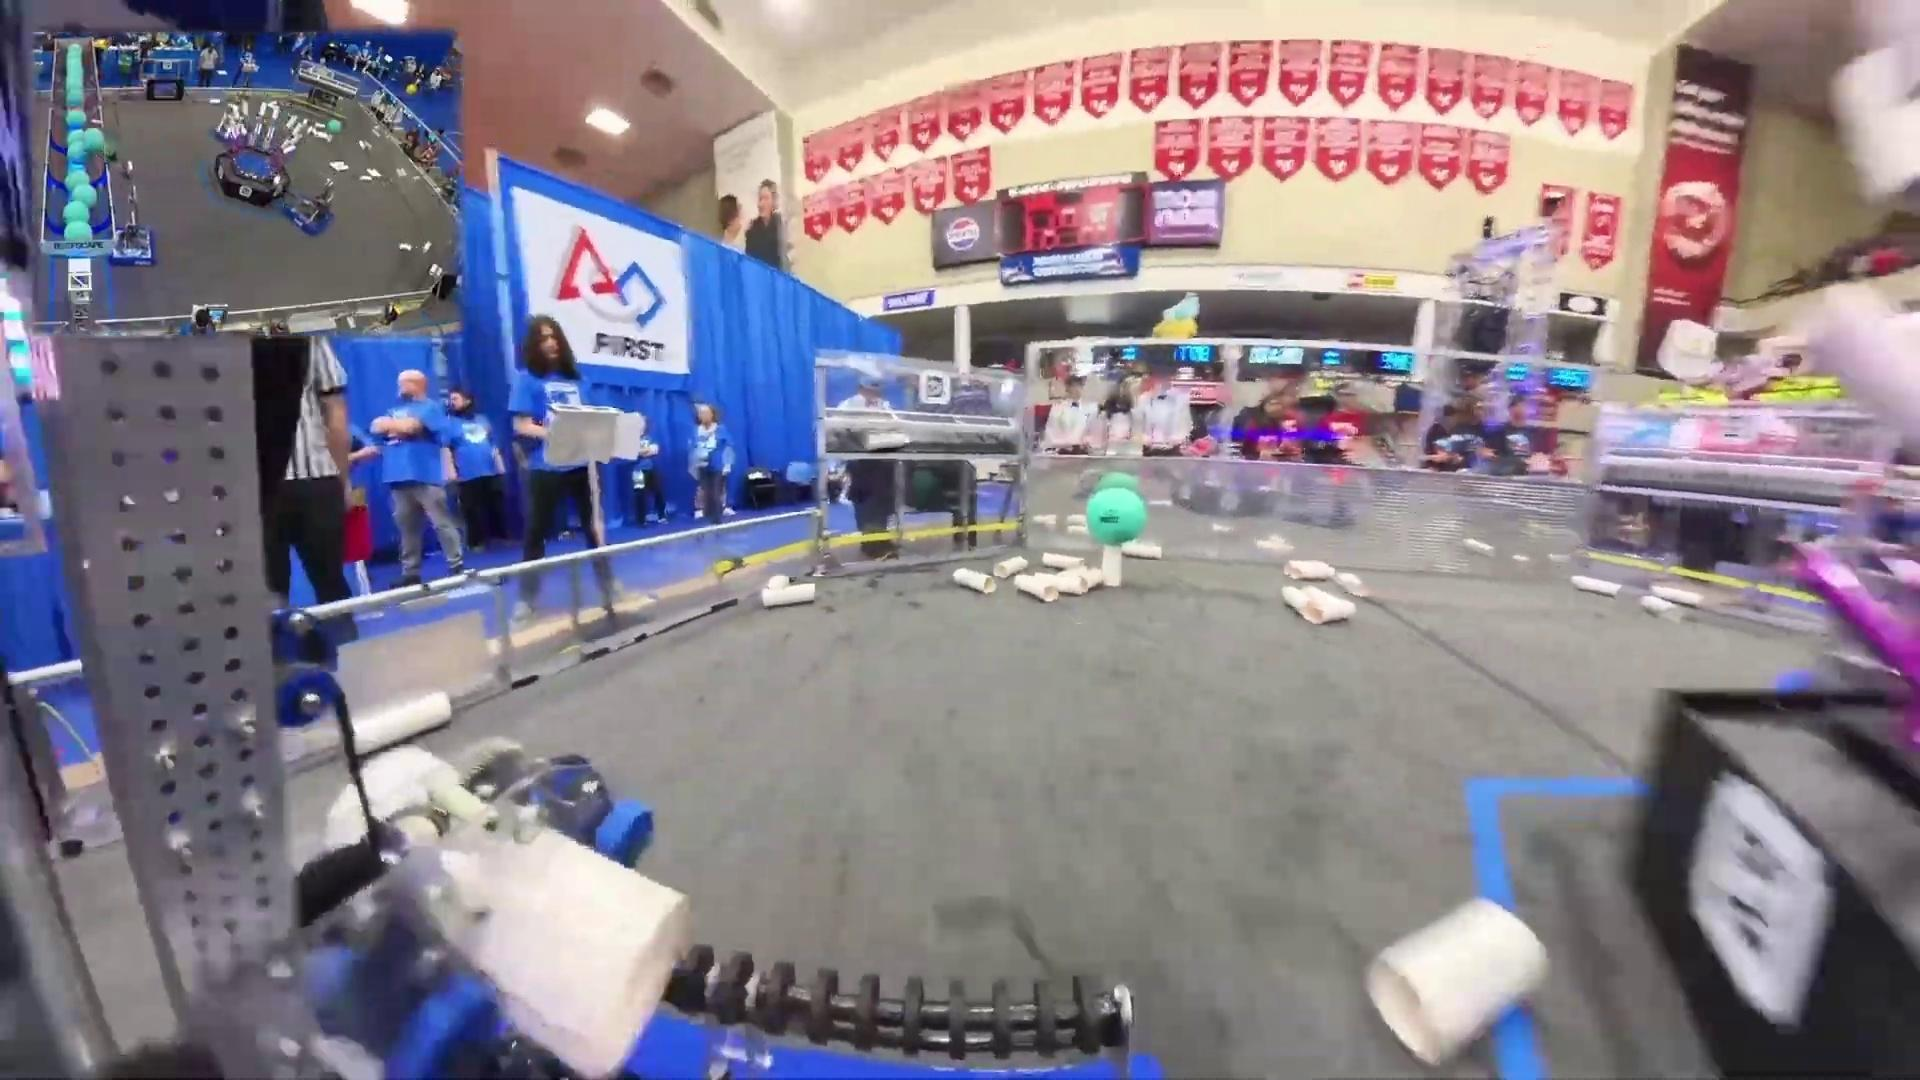robot: (108, 164, 162, 272), (278, 174, 339, 241)
